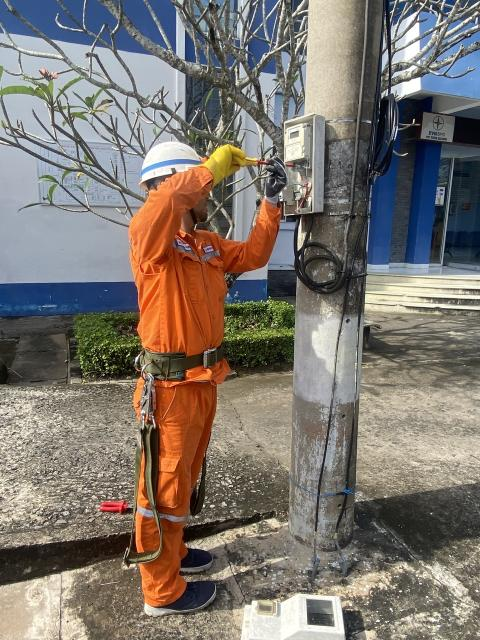gloves: (202, 148, 278, 182), (252, 150, 301, 196)
harness: (106, 338, 235, 387)
helmet: (114, 120, 228, 192)
shoes: (152, 579, 223, 626), (154, 531, 216, 572)
